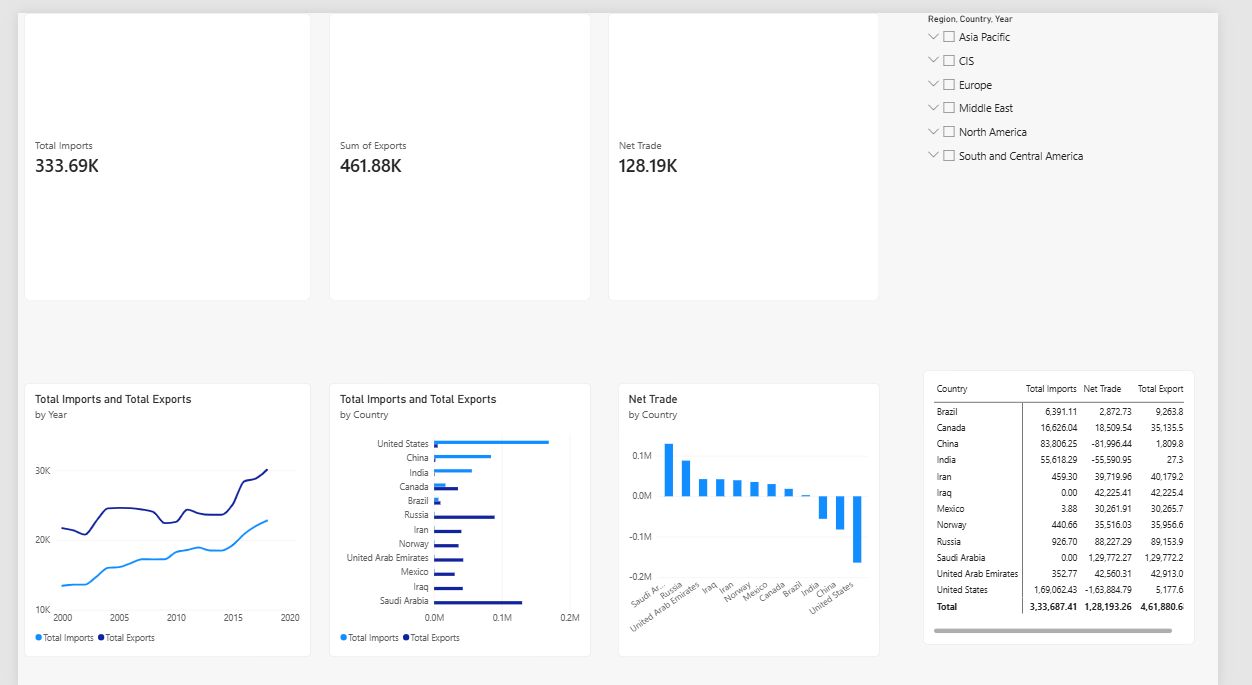

This screenshot's page, from the dashboard's own definition file:
{"tool":"powerbi","page":{"name":"Page 3","canvas":[1920,1080],"ordinal":2},"visuals":[{"type":"cardVisual","fields":{"Data":["Fact_Trade.Total Imports"]},"box":[10,0,458,460],"z":0},{"type":"cardVisual","fields":{"Data":["Sum(Fact_Trade.Exports)"]},"box":[498,0,418,460],"z":1},{"type":"cardVisual","fields":{"Data":["Fact_Trade.Net Trade"]},"box":[944,0,434,460],"z":2},{"type":"slicer","fields":{"Values":["Dim_Country.Region","Dim_Country.Country","Fact_Trade.Year"]},"box":[1448,0,458,460],"z":3},{"type":"lineChart","fields":{"Category":["Dim_Year.Year"],"Y":["Fact_Trade.Total Imports","Fact_Trade.Total Exports"]},"box":[10,592,458,438],"z":4},{"type":"columnChart","fields":{"Category":["Dim_Country.Country"],"Y":["Fact_Trade.Net Trade"]},"box":[960,592,418,438],"z":5},{"type":"pivotTable","fields":{"Rows":["Dim_Country.Country"],"Values":["Fact_Trade.Total Imports","Fact_Trade.Net Trade","Fact_Trade.Total Exports"]},"box":[1448,572,434,438],"z":6},{"type":"clusteredBarChart","fields":{"Category":["Dim_Country.Country"],"Y":["Fact_Trade.Total Imports","Fact_Trade.Total Exports"]},"box":[498,592,418,438],"z":7}]}

Visuals, with their boxes in screenshot pixels (x1, y1, x2, y2), scaled from the page's 1920x1080 canvas onto the 1252x685 screenshot:
cardVisual - Fact_Trade.Total Imports: x1=7 y1=0 x2=305 y2=292
cardVisual - Sum(Fact_Trade.Exports): x1=325 y1=0 x2=597 y2=292
cardVisual - Fact_Trade.Net Trade: x1=616 y1=0 x2=899 y2=292
slicer - Dim_Country.Region x Dim_Country.Country: x1=944 y1=0 x2=1243 y2=292
lineChart - Dim_Year.Year x Fact_Trade.Total Imports: x1=7 y1=375 x2=305 y2=653
columnChart - Dim_Country.Country x Fact_Trade.Net Trade: x1=626 y1=375 x2=899 y2=653
pivotTable - Dim_Country.Country x Fact_Trade.Total Imports: x1=944 y1=363 x2=1227 y2=641
clusteredBarChart - Dim_Country.Country x Fact_Trade.Total Imports: x1=325 y1=375 x2=597 y2=653
